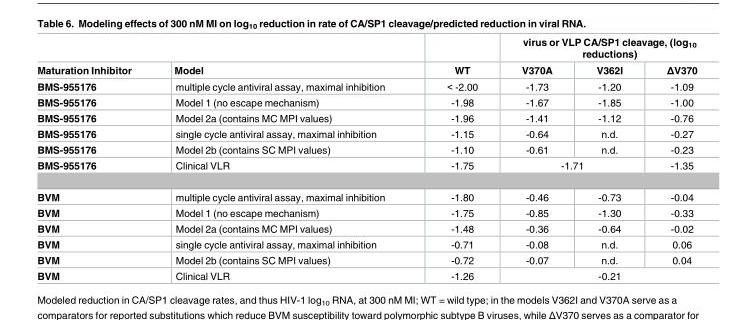table: (36, 37, 696, 281)
table column: (152, 37, 415, 281), (36, 37, 152, 281), (415, 37, 499, 281), (499, 37, 573, 281), (573, 37, 643, 281), (643, 37, 696, 281)
table column header: (36, 37, 696, 78)
table row: (36, 37, 696, 61), (36, 157, 696, 181), (36, 181, 696, 205), (36, 61, 696, 78), (36, 78, 696, 94), (36, 94, 696, 110), (36, 110, 696, 126), (36, 126, 696, 142), (36, 205, 696, 221), (36, 236, 696, 252), (36, 252, 696, 268), (36, 142, 696, 157), (36, 221, 696, 236), (36, 268, 696, 281)
table spanning cell: (152, 37, 415, 78), (36, 37, 152, 78), (499, 37, 696, 61), (499, 157, 643, 181), (415, 37, 499, 78), (499, 268, 696, 281)
